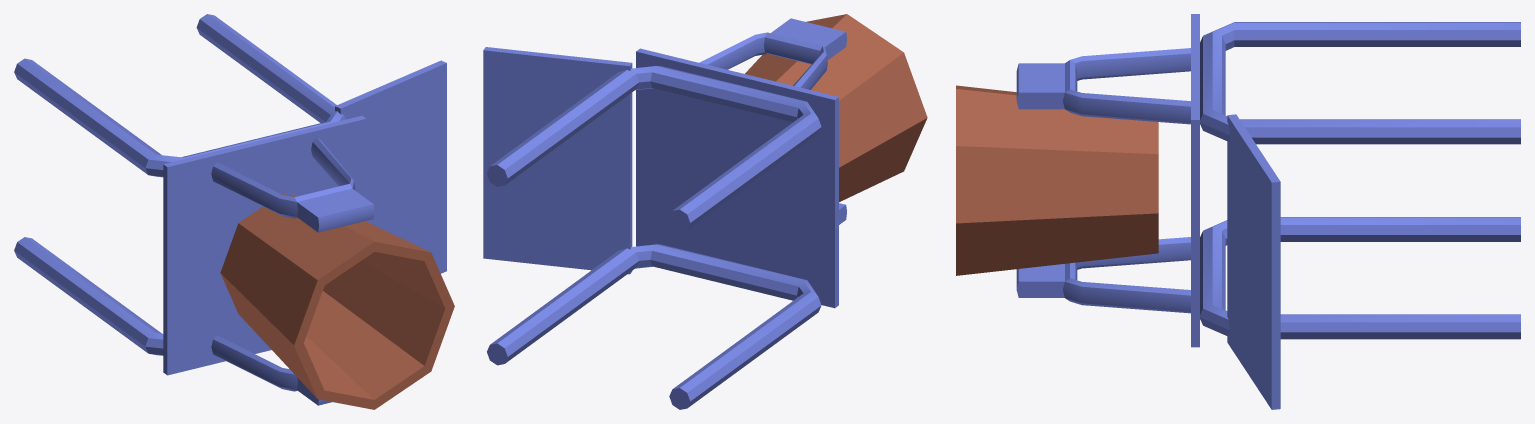
File: mud balm.fbx
3 renders of one model, left to right at view 1: azimuth 30°, elevation 25°; view 2: azimuth 150°, elevation 25°; view 3: azimuth 270°, elevation 25°, orthographic. The views are drawn at different scales.
Parts seen in each view (by area): view 1: Plane, Cylinder; view 2: Plane, Cylinder; view 3: Plane, Cylinder.
Part boxes in pixels (x1=…): Plane: x1=14, y1=14, x2=446, y2=405; Cylinder: x1=220, y1=194, x2=454, y2=409; Plane: x1=483, y1=18, x2=846, y2=409; Cylinder: x1=745, y1=14, x2=927, y2=202; Plane: x1=1016, y1=14, x2=1520, y2=409; Cylinder: x1=956, y1=85, x2=1158, y2=275.
Bounding box in the file's own units: 561 × 350 × 788.
